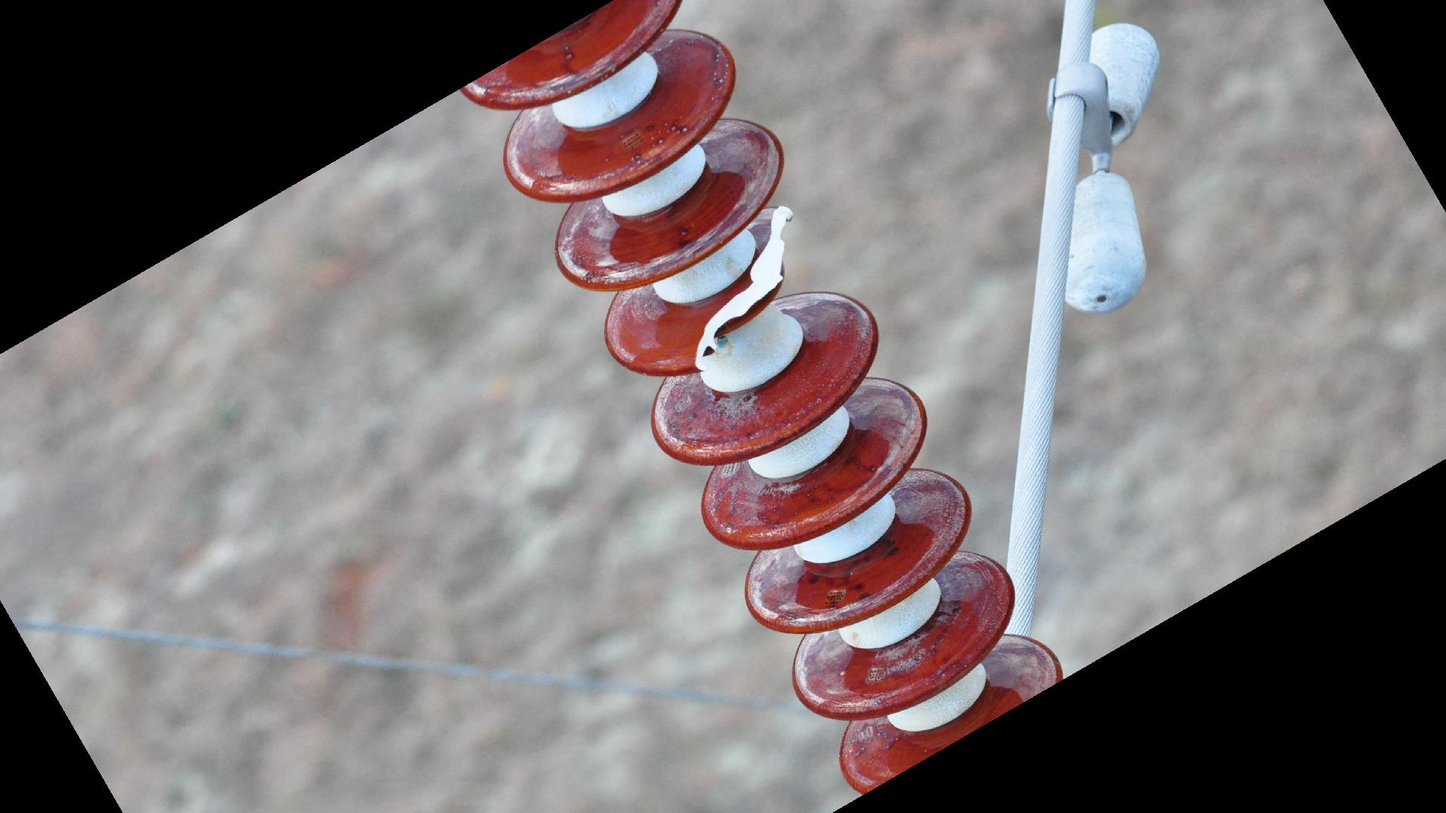insulator: (454, 1, 1076, 803)
insulator_breakage: (680, 193, 806, 383)
